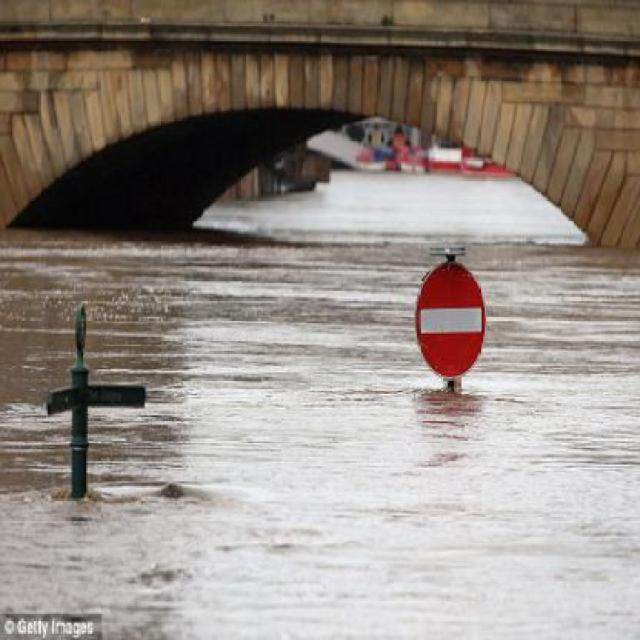Zakaz wjazdu: (414, 264, 486, 378)
